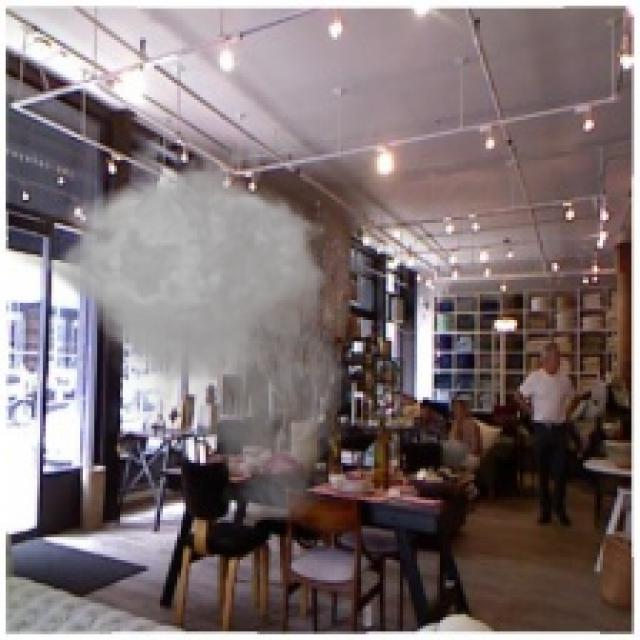smoke: (11, 120, 363, 529)
